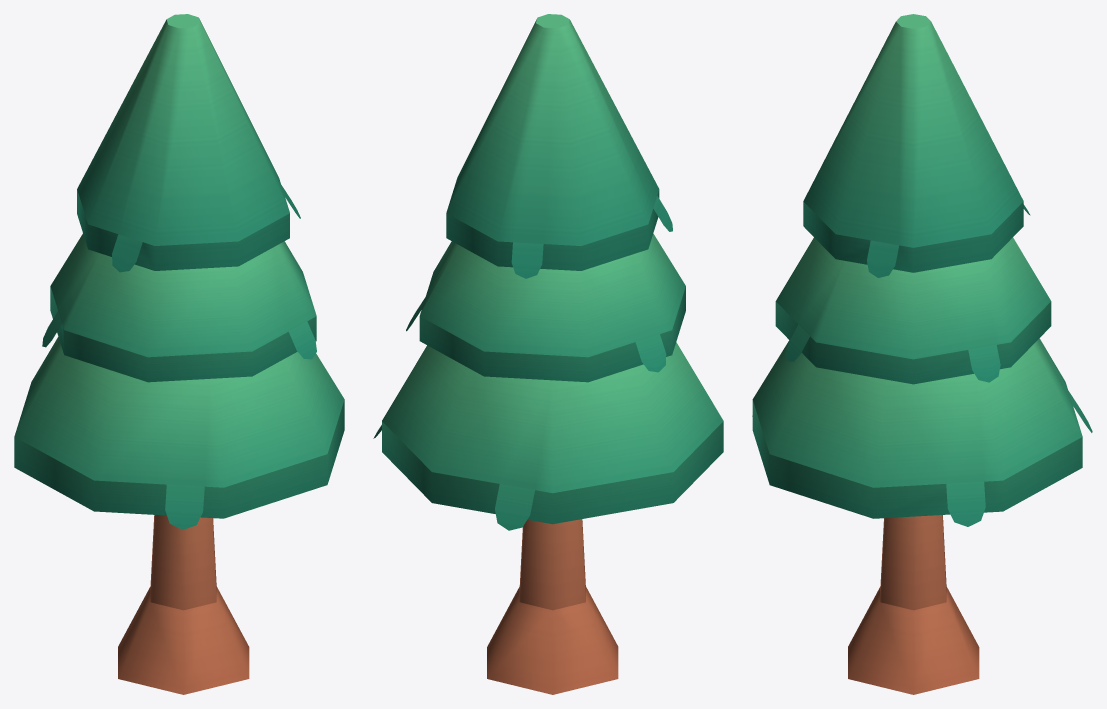
Rendered from tree-large.obj.
The picture shows the model from 3 angles, left to right: view 1: azimuth 30°, elevation 25°; view 2: azimuth 150°, elevation 25°; view 3: azimuth 270°, elevation 25°; orthographic projection.
Visible parts, largest first — view 1: tree-large; view 2: tree-large; view 3: tree-large.
Part boxes in pixels (box(x1,y1,x2,y2)): tree-large: box(14, 14, 344, 694); tree-large: box(373, 14, 723, 694); tree-large: box(752, 14, 1092, 694).
Size of the model in its own units: 0.8887 by 1.85 by 0.8898.
1 material, 1 textured.
